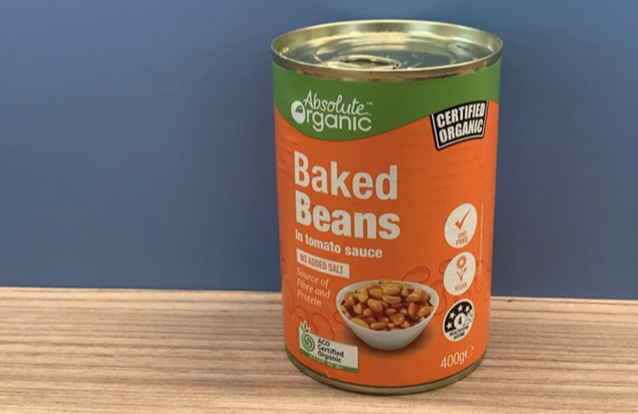Baked beans_450g: (282, 88, 484, 369)
